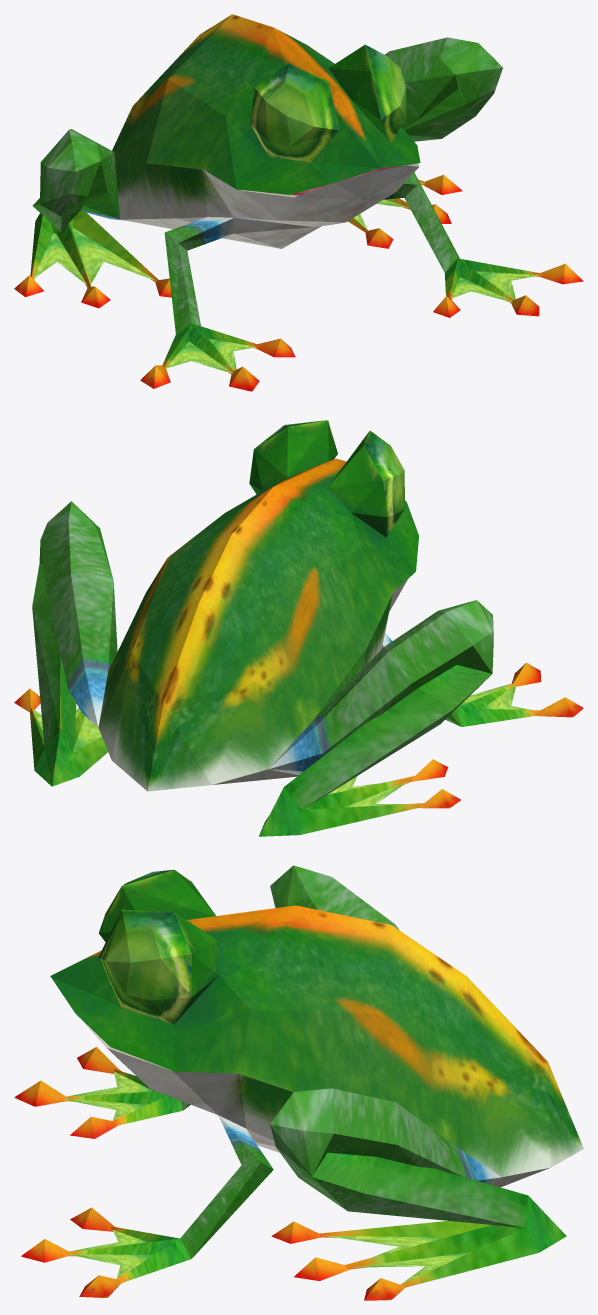
File: OBJ09_FROGGREENBEAT.obj
3 views of the same model, one above another, from view 1: azimuth 30°, elevation 25°; view 2: azimuth 150°, elevation 25°; view 3: azimuth 270°, elevation 25° (orthographic). The views are drawn at different scales.
Visible parts, largest first — view 1: Object_1; view 2: Object_1; view 3: Object_1.
Boxes of the visible parts, left/top/right/bottom form: Object_1: left=14, top=14, right=583, bottom=391; Object_1: left=14, top=420, right=583, bottom=836; Object_1: left=14, top=865, right=583, bottom=1300.
Size of the model in its own units: 41.39 by 21.9 by 39.31.
